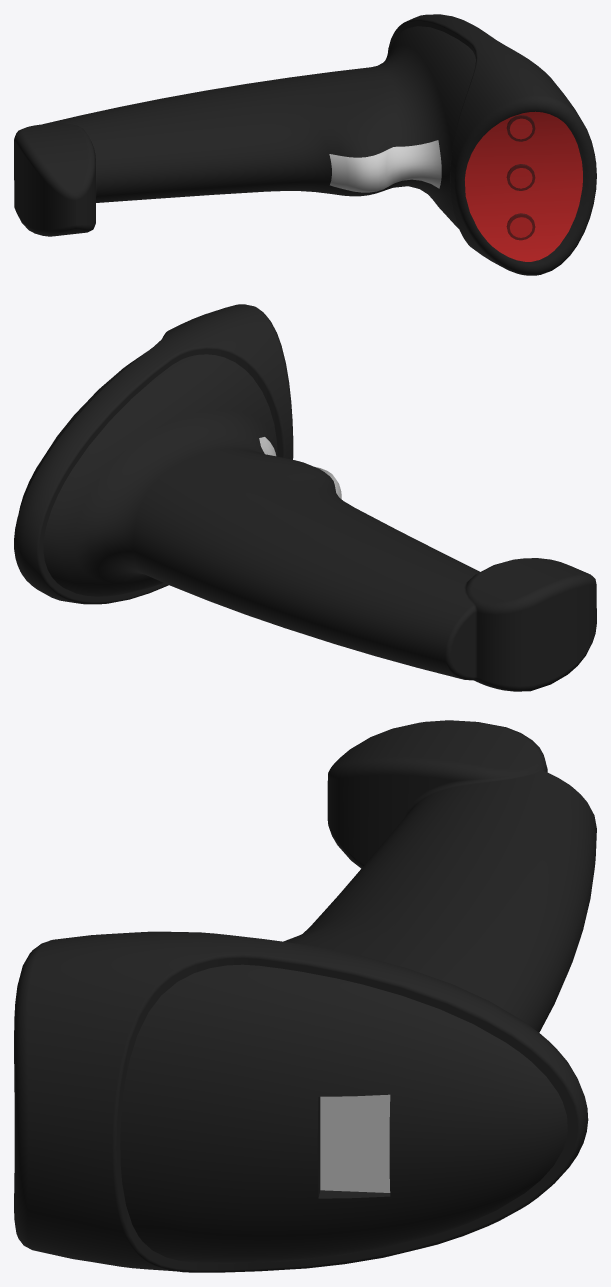
Rendered from BarcodeScanner.fbx.
3 views of the same model, one above another, from view 1: azimuth 30°, elevation 25°; view 2: azimuth 150°, elevation 25°; view 3: azimuth 270°, elevation 25° (orthographic). The views are drawn at different scales.
Visible parts, largest first — view 1: BarcodeScanner; view 2: BarcodeScanner; view 3: BarcodeScanner.
Part boxes in pixels (<box>): BarcodeScanner: <box>14,14,596,275</box>; BarcodeScanner: <box>14,304,596,691</box>; BarcodeScanner: <box>14,720,596,1272</box>.
Bounding box in the file's own units: 18.94 × 7.78 × 12.64.
